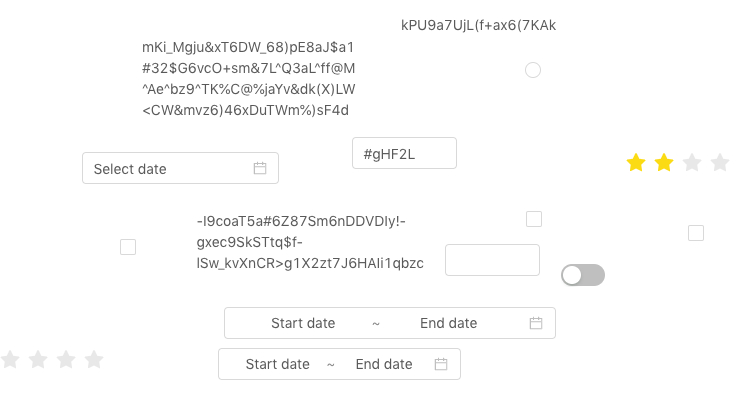Checkbox: (120, 236, 136, 257), (526, 208, 542, 229), (688, 222, 704, 243)
DatePicker: (82, 152, 279, 184)
Input: (352, 137, 457, 169), (445, 244, 540, 276)
Radio: (525, 59, 541, 79)
RangePicker: (224, 307, 667, 339), (218, 348, 461, 380)
Rate: (0, 343, 120, 375), (626, 146, 746, 178)
Switch: (561, 263, 605, 287)
Text: (142, 36, 360, 128), (197, 210, 428, 275), (401, 14, 559, 39)
